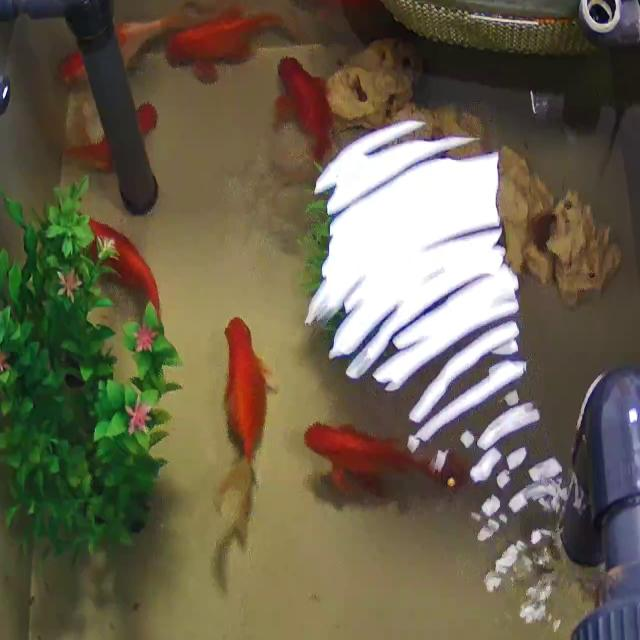fish: (301, 402, 472, 515), (216, 301, 271, 544), (159, 0, 291, 87), (73, 216, 173, 330), (273, 44, 350, 182), (51, 115, 168, 172), (70, 22, 182, 76), (287, 0, 373, 21)
